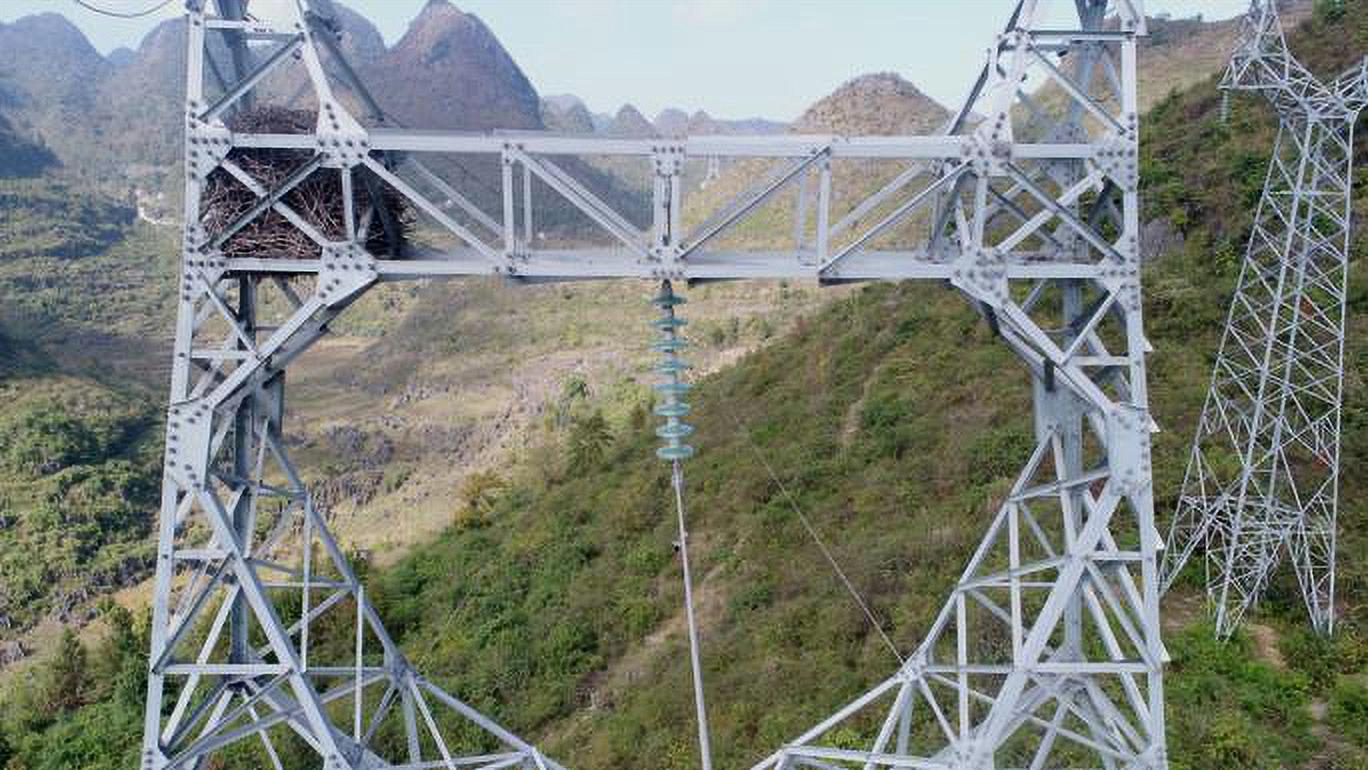insulator: (636, 290, 703, 464)
